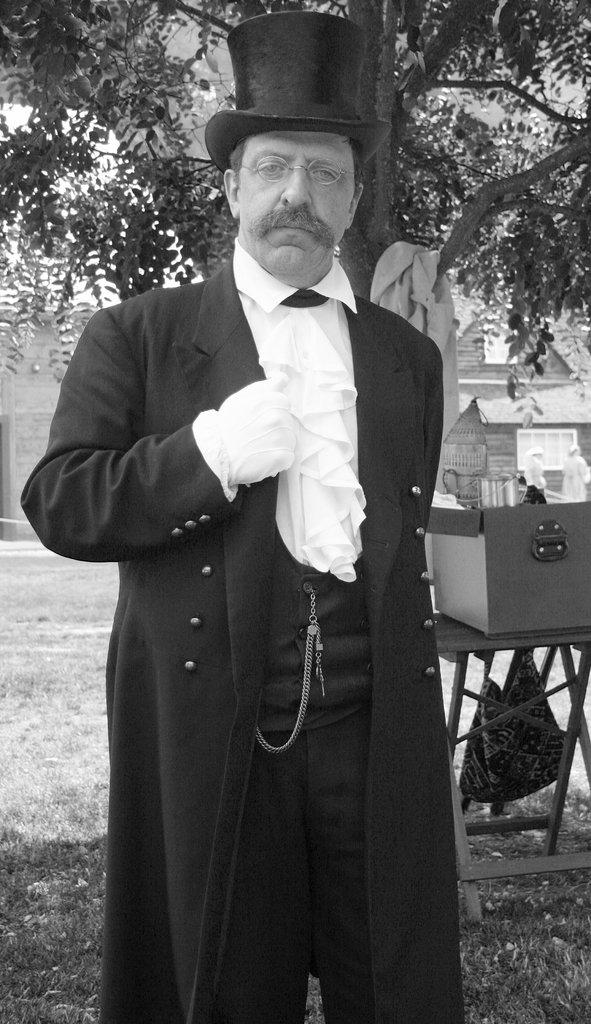Hat: (204, 4, 395, 163)
